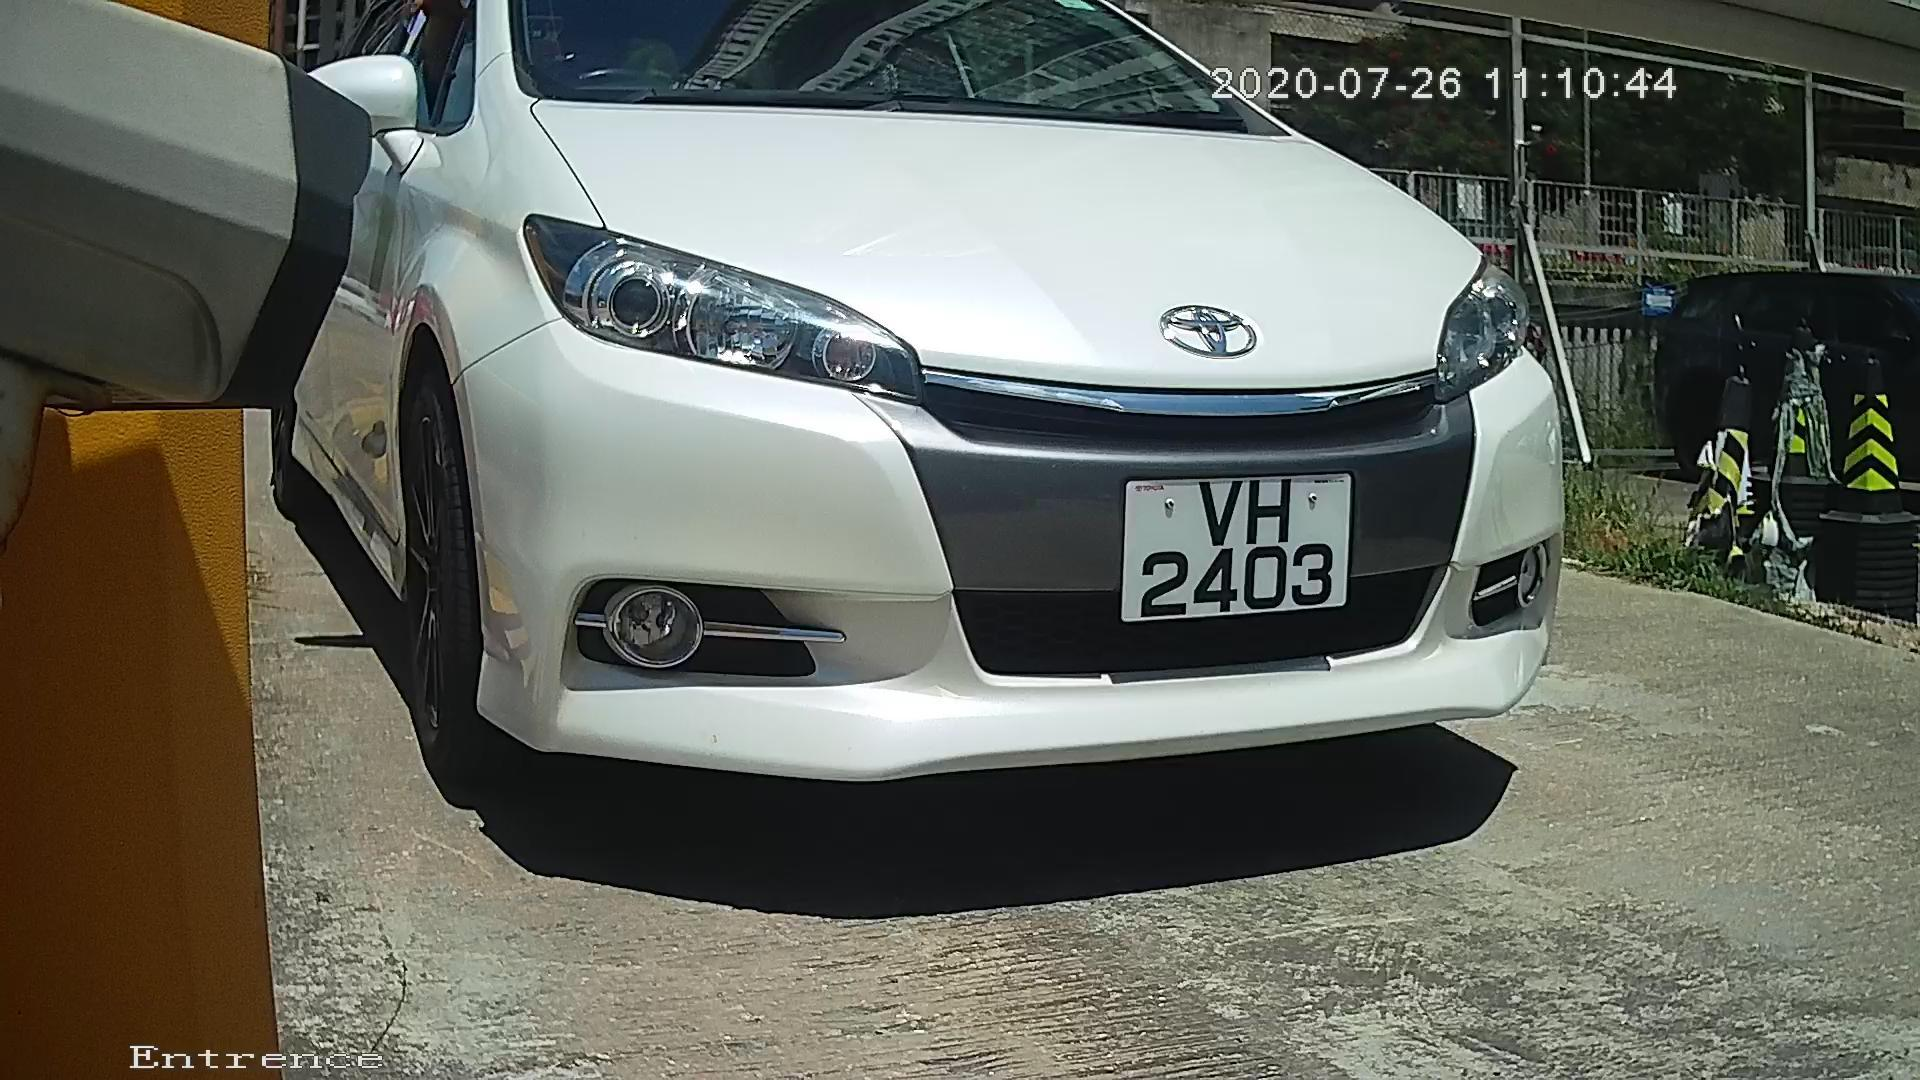privatecar: (249, 20, 1629, 835)
